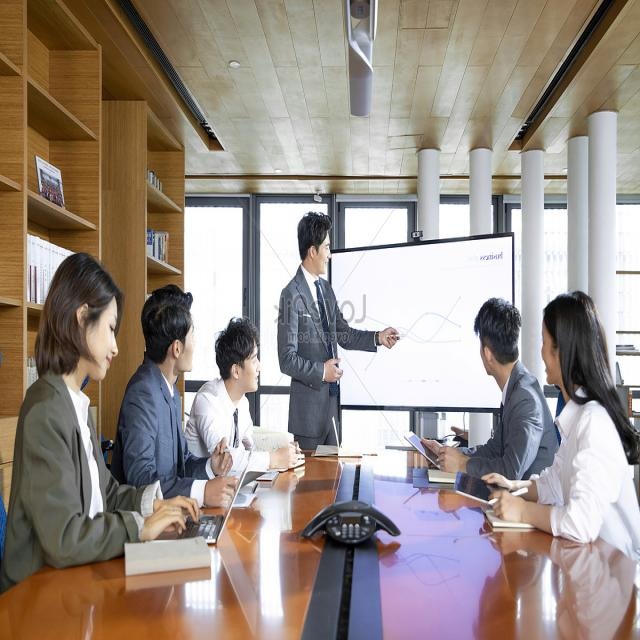adult: (0, 258, 201, 582), (484, 296, 637, 539), (278, 214, 404, 452), (111, 282, 232, 500), (420, 302, 555, 488), (178, 323, 280, 493)
